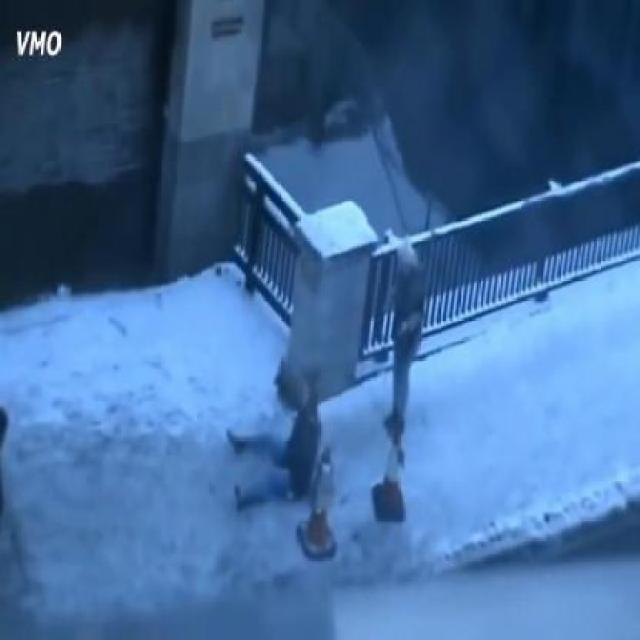fall: (230, 364, 318, 514)
